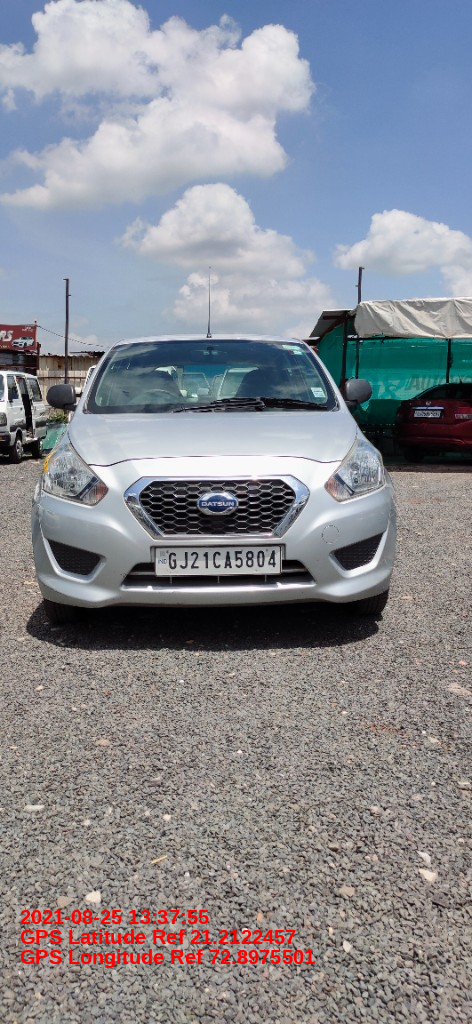Scratched: (118, 570, 129, 580), (313, 558, 325, 566), (299, 589, 308, 598)
